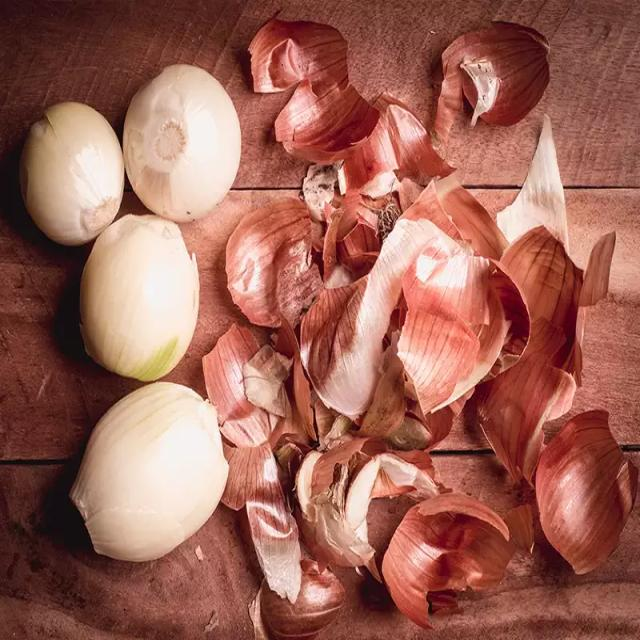Wet: (206, 323, 306, 603), (249, 7, 381, 161), (530, 406, 637, 576), (382, 496, 512, 631), (430, 17, 551, 152), (224, 199, 332, 324)
